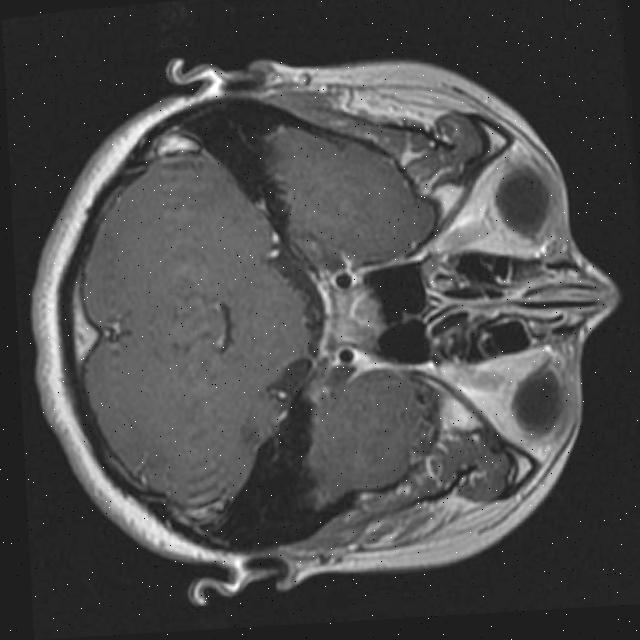Pituitary: (328, 282, 390, 355)
